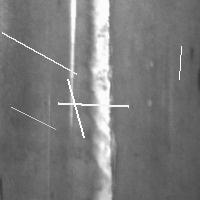scratches: (81, 1, 115, 199), (0, 27, 81, 78), (62, 74, 88, 142), (6, 102, 60, 134), (67, 1, 78, 131), (53, 98, 133, 111), (174, 41, 186, 84)
